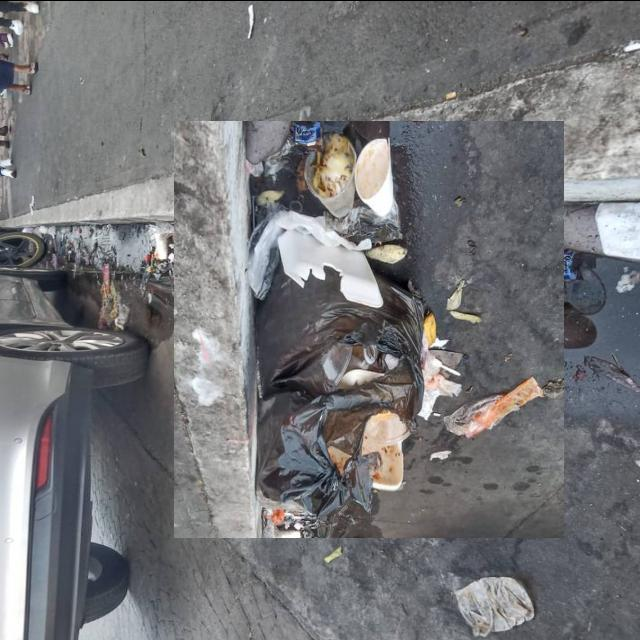Trashbag: (244, 269, 434, 545)
